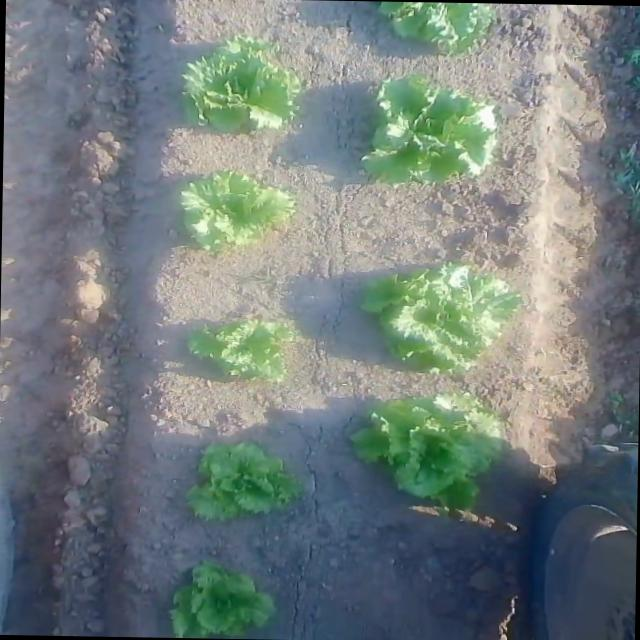Lettuce-Ready-to-Harvest: (359, 262, 522, 378), (348, 390, 502, 511), (360, 74, 498, 188), (174, 34, 303, 132), (178, 169, 295, 252), (189, 439, 294, 520), (186, 318, 299, 382)
